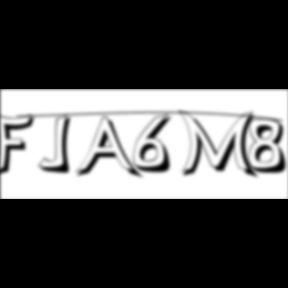6: (134, 112, 178, 176)
A: (75, 116, 144, 182)
F: (0, 110, 40, 178)
J: (39, 114, 78, 176)
M: (178, 108, 262, 181)
